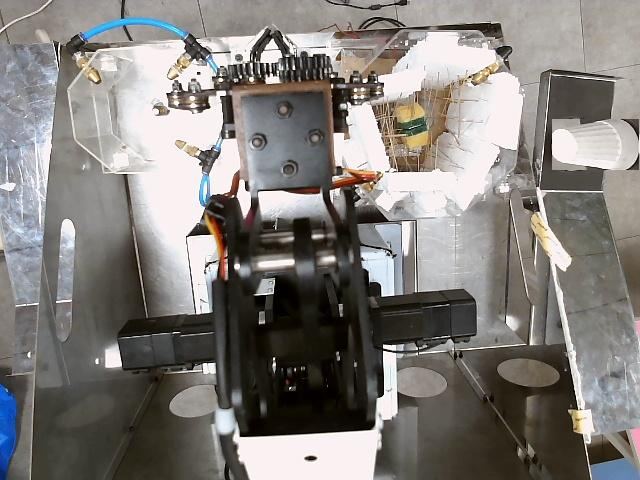cup: (552, 119, 639, 170)
